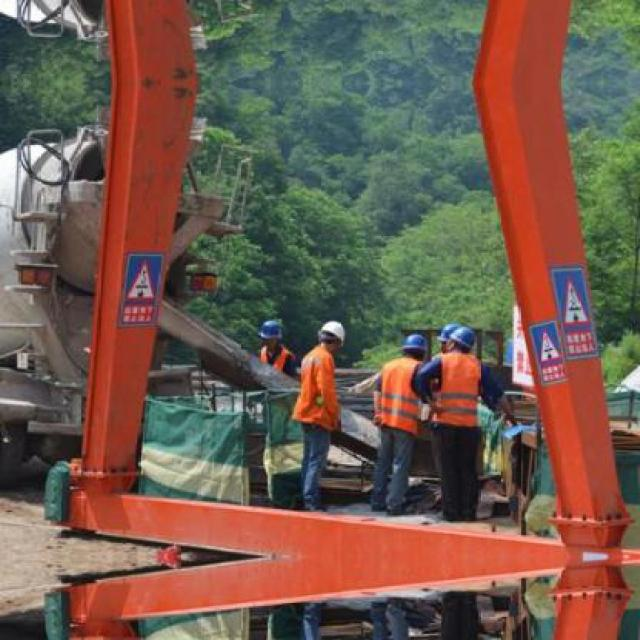helmet: (315, 316, 350, 352), (440, 322, 477, 352), (252, 312, 280, 350), (399, 327, 426, 359)
